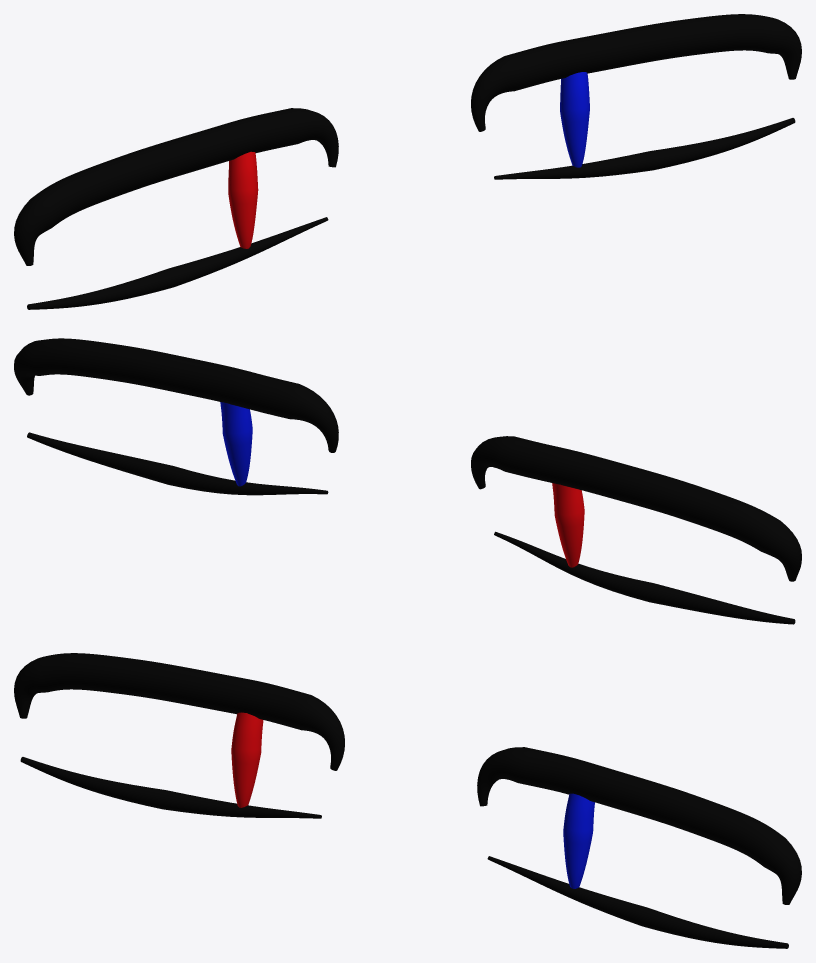
The model's file is ClownCatEyes.fbx.
3 renders of one model, top to bottom at view 1: azimuth 30°, elevation 25°; view 2: azimuth 150°, elevation 25°; view 3: azimuth 330°, elevation 25°, orthographic.
Parts seen in each view (by area): view 1: BézierCurve.005, BézierCurve.003, BézierCurve.002, BézierCurve.004, BézierCurve, BézierCurve.006; view 2: BézierCurve.005, BézierCurve.003, BézierCurve.002, BézierCurve.004, BézierCurve, BézierCurve.006; view 3: BézierCurve.003, BézierCurve.005, BézierCurve.004, BézierCurve.002, BézierCurve, BézierCurve.006.
Part boxes in pixels (<box>): BézierCurve.005: <box>14,108,338,265</box>; BézierCurve.003: <box>471,14,801,131</box>; BézierCurve.002: <box>27,217,328,309</box>; BézierCurve.004: <box>494,118,795,179</box>; BézierCurve: <box>228,151,258,248</box>; BézierCurve.006: <box>560,72,589,167</box>; BézierCurve.005: <box>471,436,801,581</box>; BézierCurve.003: <box>14,338,338,452</box>; BézierCurve.002: <box>494,531,795,624</box>; BézierCurve.004: <box>27,432,328,495</box>; BézierCurve: <box>552,483,584,567</box>; BézierCurve.006: <box>220,402,252,486</box>; BézierCurve.003: <box>477,747,801,904</box>; BézierCurve.005: <box>14,653,344,770</box>; BézierCurve.004: <box>487,856,788,948</box>; BézierCurve.002: <box>20,757,321,818</box>; BézierCurve: <box>231,712,263,807</box>; BézierCurve.006: <box>563,793,594,888</box>.
Size of the model in its own units: 148 by 25.13 by 7.93.
